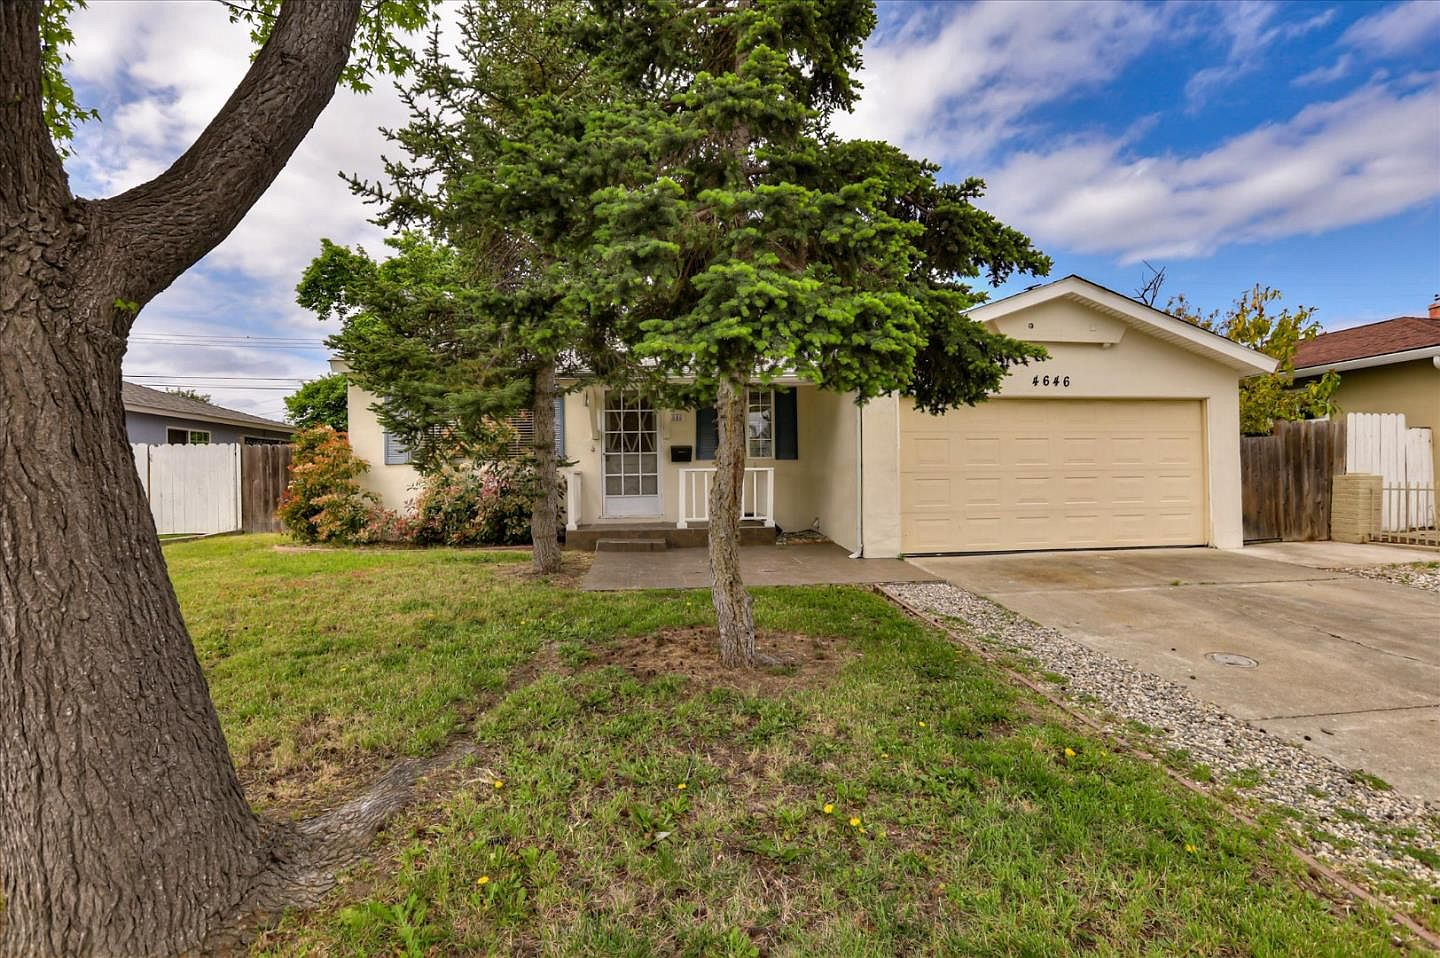tree: (455, 2, 1052, 671)
